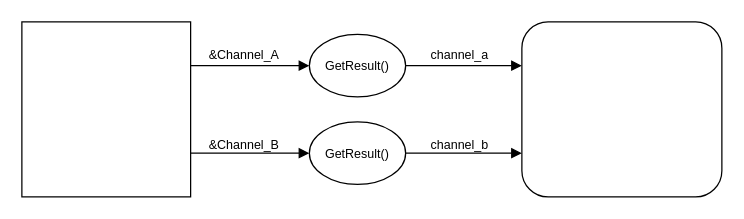
Some shapes in this 744 by 219 pixel diagram are drawn without their labels. Here are the shapes that lost their labels. From the top down, the centre of each, then its label:
At [106,109]: "dhADC_MEASUREMENT_0".
At [621,109]: "ISR_dhADC_MEASUREMENT_0".
